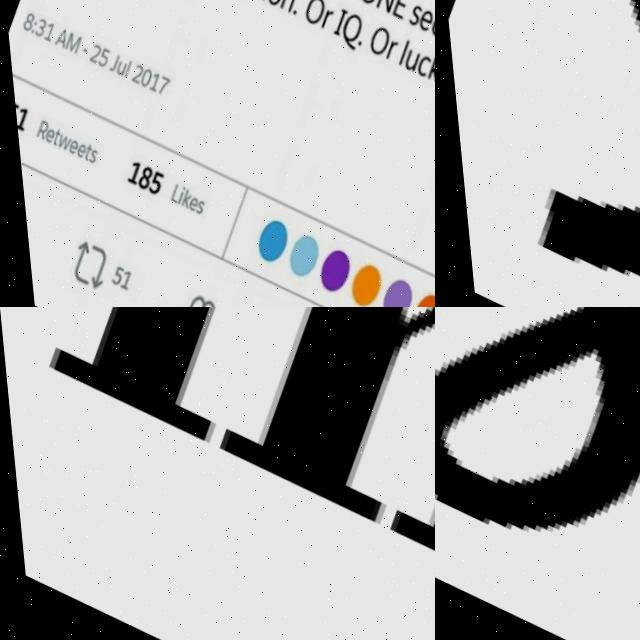1: (136, 166, 159, 195), (88, 43, 107, 68), (98, 262, 116, 286), (8, 100, 15, 127)
3: (148, 71, 165, 94)
4: (125, 161, 148, 190), (14, 8, 33, 33)
8: (435, 307, 640, 640)
9: (466, 0, 640, 307)
M: (9, 307, 435, 606)
